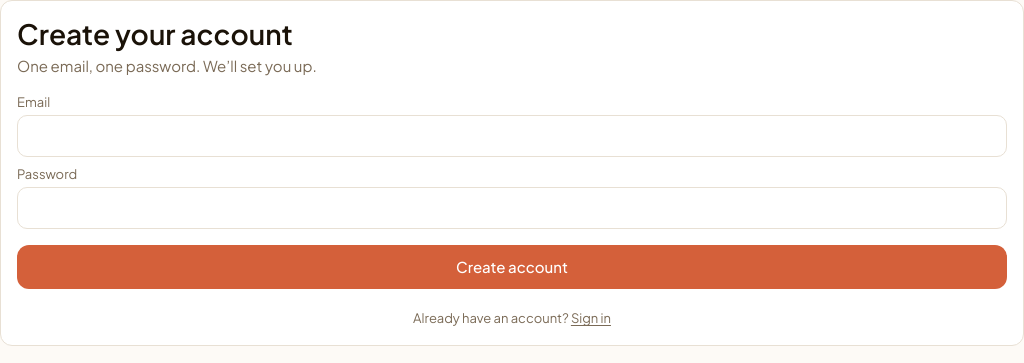
Scenario: <SignUpPage> › no session + identities=[] (existing-account) → AwaitingConfirmationCard, no-enumeration
This screenshot has width=1024, height=363.
Type "existing@test.local" into the field labelled "Email".
click(512, 136); type("existing@test.local")  # box [17,115,1007,157]
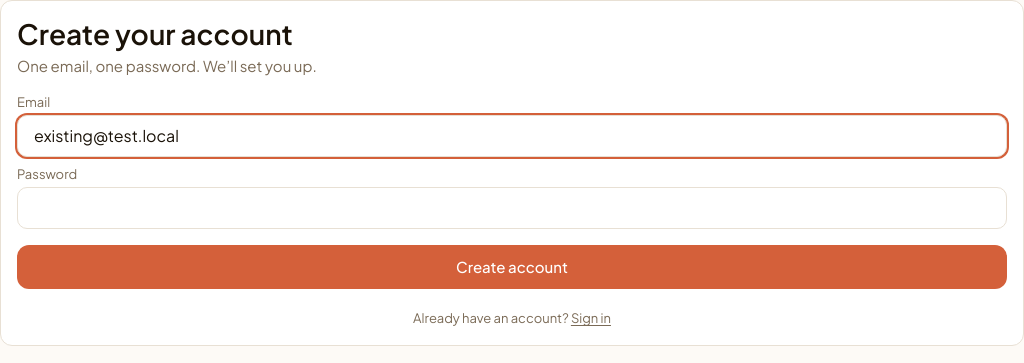
Type "Hunter2pass!" into the password field labelled "Password".
click(512, 208); type("Hunter2pass!")  # box [17,188,1007,230]
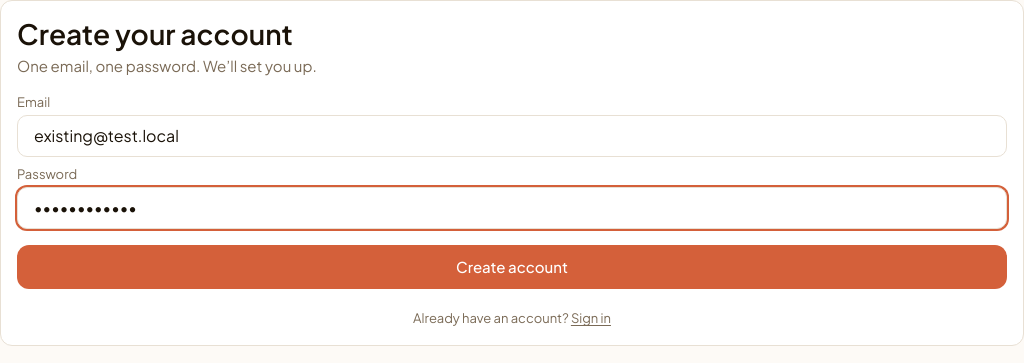
Click the button "Create account".
click(512, 268)  # box [17,246,1007,290]
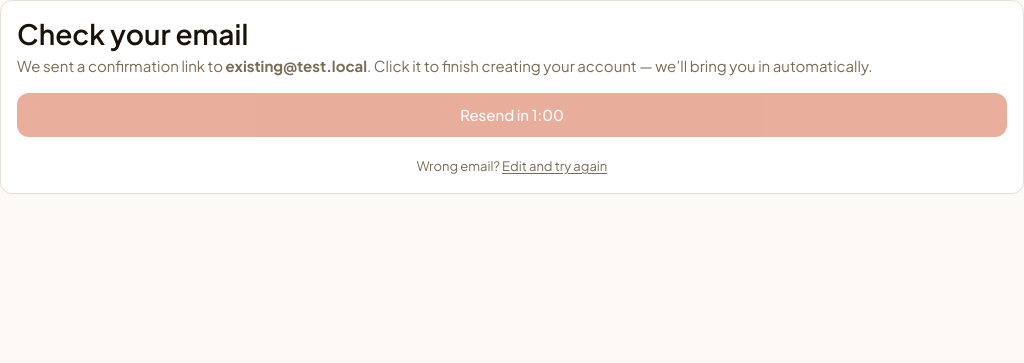
Check: the heading "Check your email" is shown, box [17,16,248,51]
